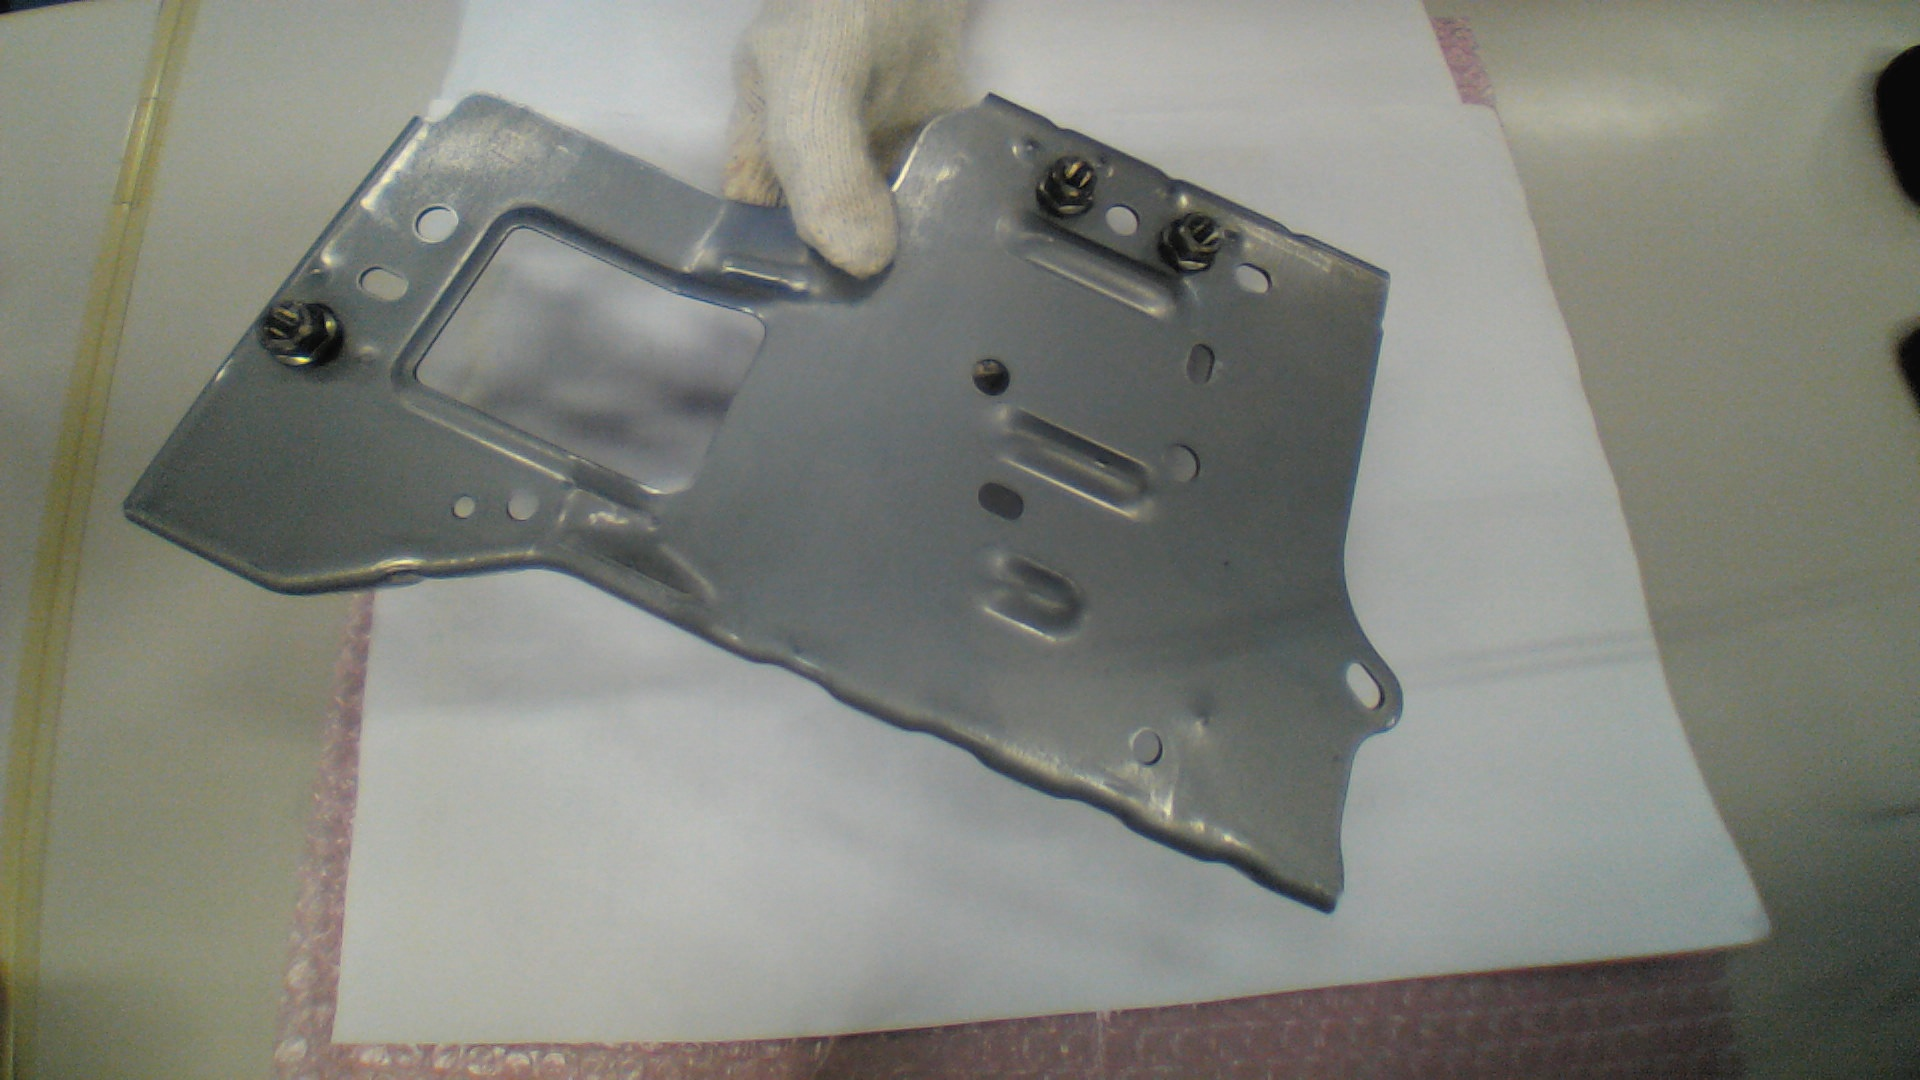dog: (258, 301, 345, 371), (1036, 156, 1098, 222), (1160, 211, 1221, 276)
